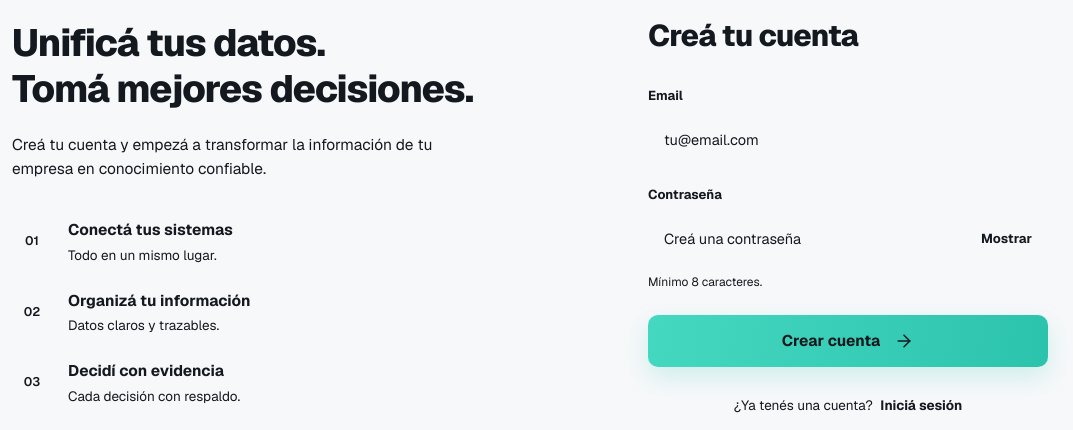
Test case: Crear cuenta › con un correo nuevo pide revisar el correo
This screenshot has width=1073, height=430.
Type "persona@ejemplo.com" into the field labelled "Email" at (848, 139), box [648,113,1048,165]
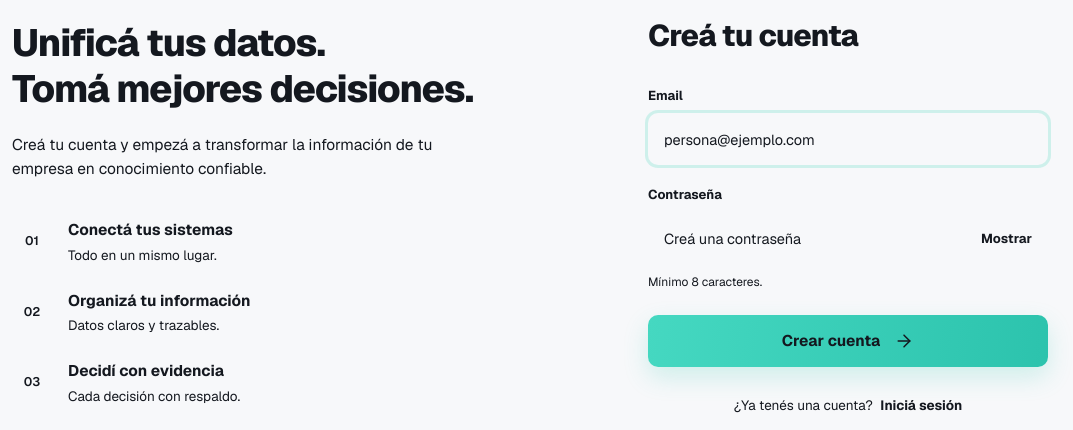
Type "una-clave-larga" into the password field labelled "Contraseña" at (807, 238), box [648,212,965,264]
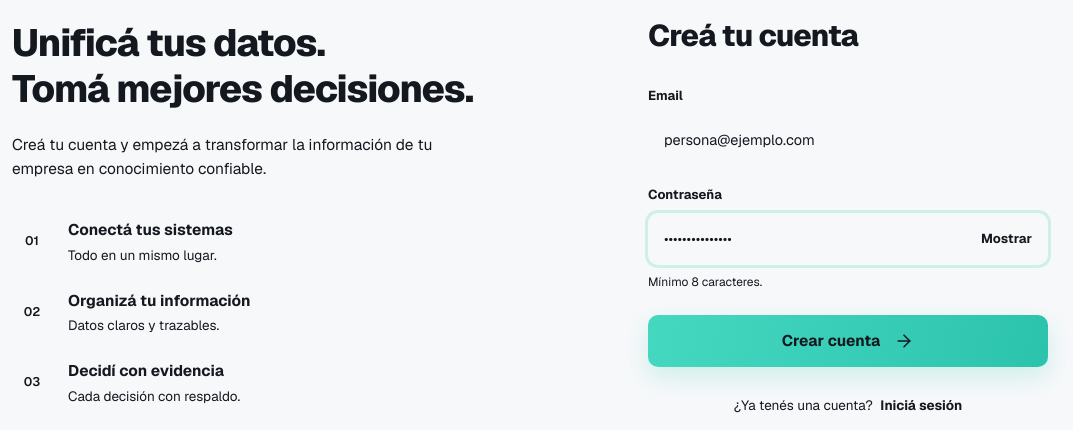
Click the button "Crear cuenta" at (848, 340), box [648,314,1048,366]
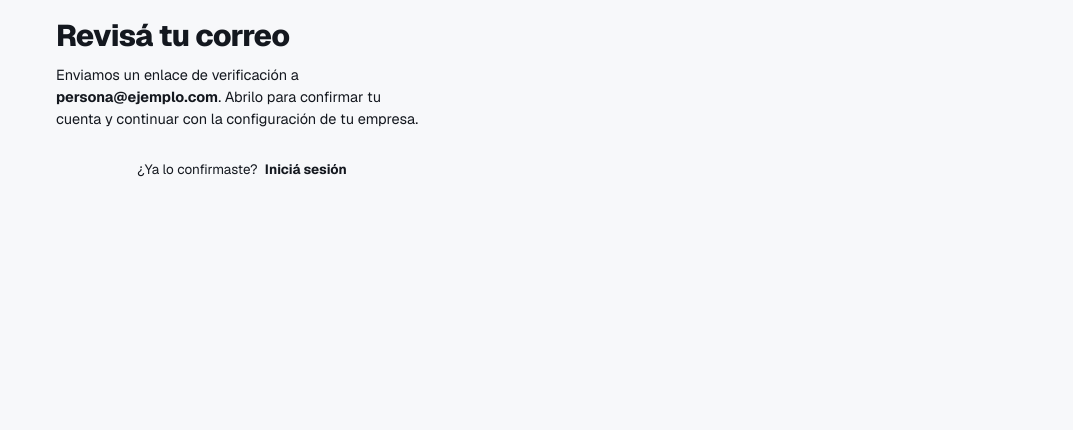
Expected: the heading "Revisá tu correo" is shown, [56,16,289,55]
